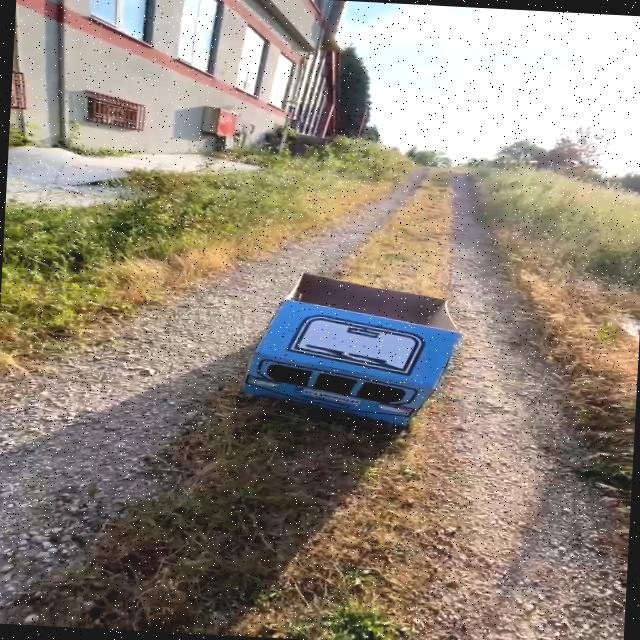blue_car: (198, 241, 489, 460)
